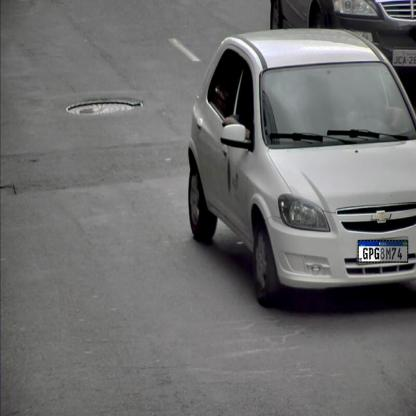PlacaM: (358, 240, 408, 263)
